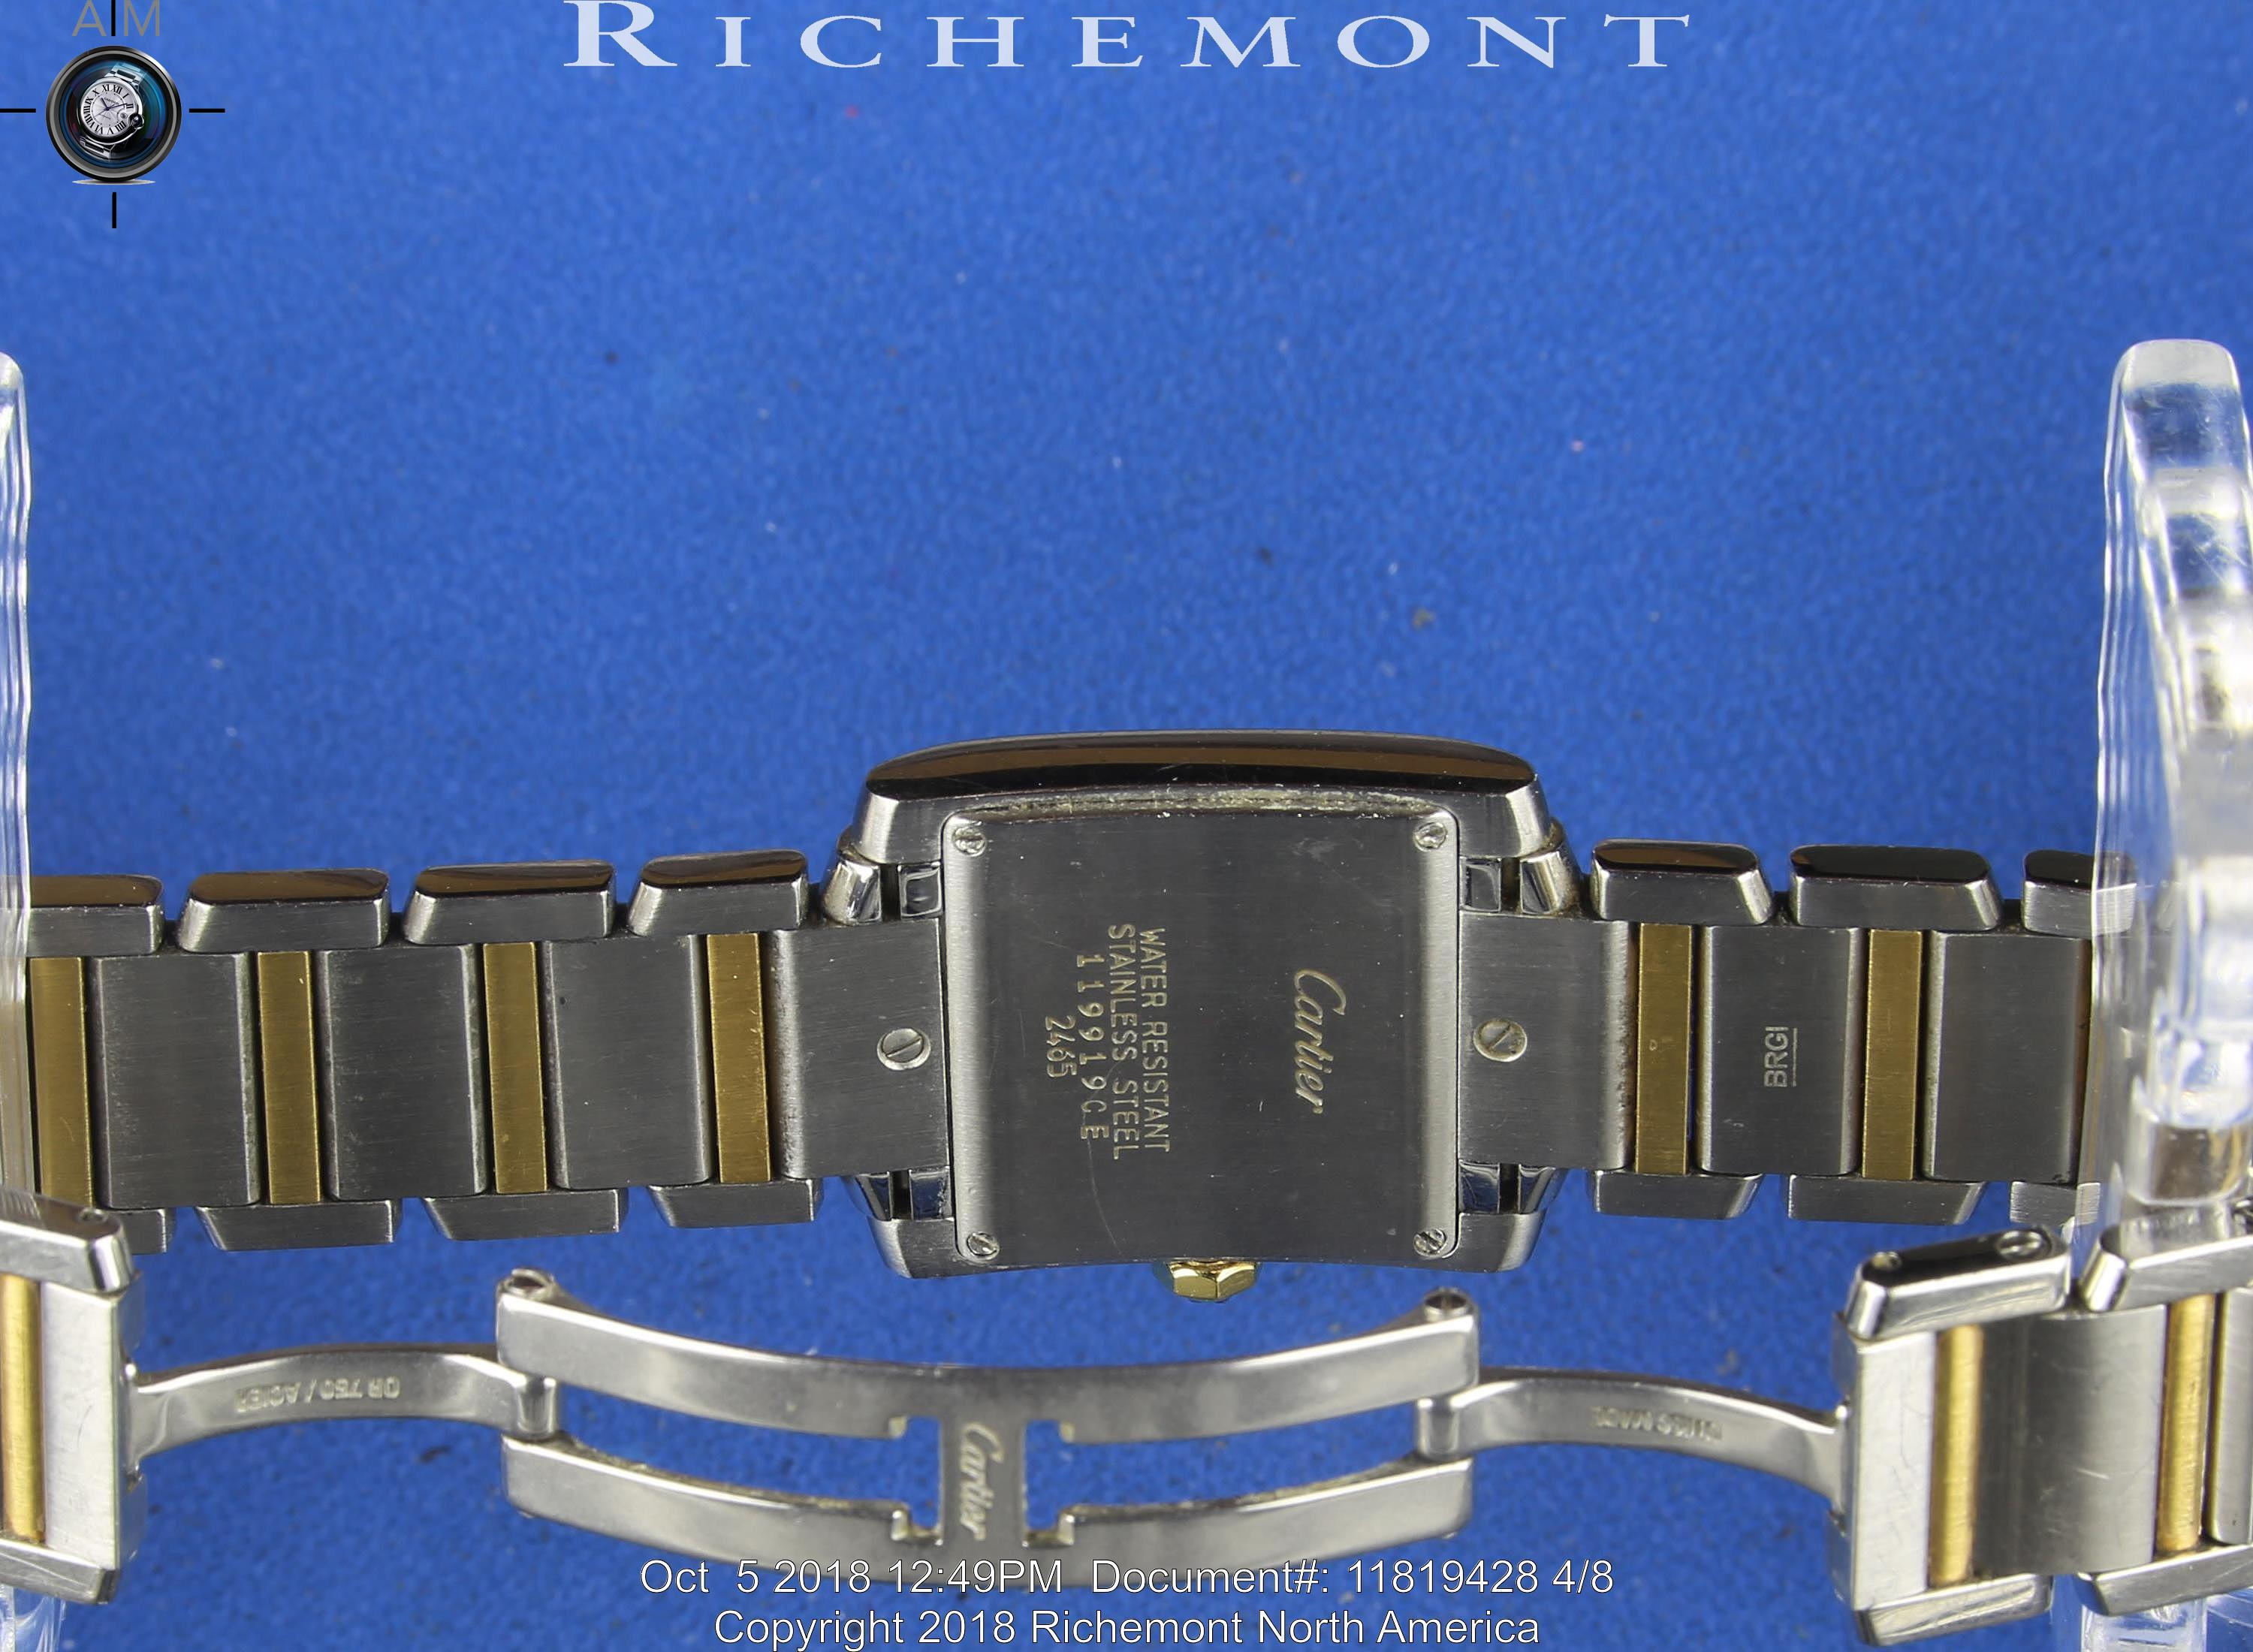watchback: (761, 743, 1566, 1295)
